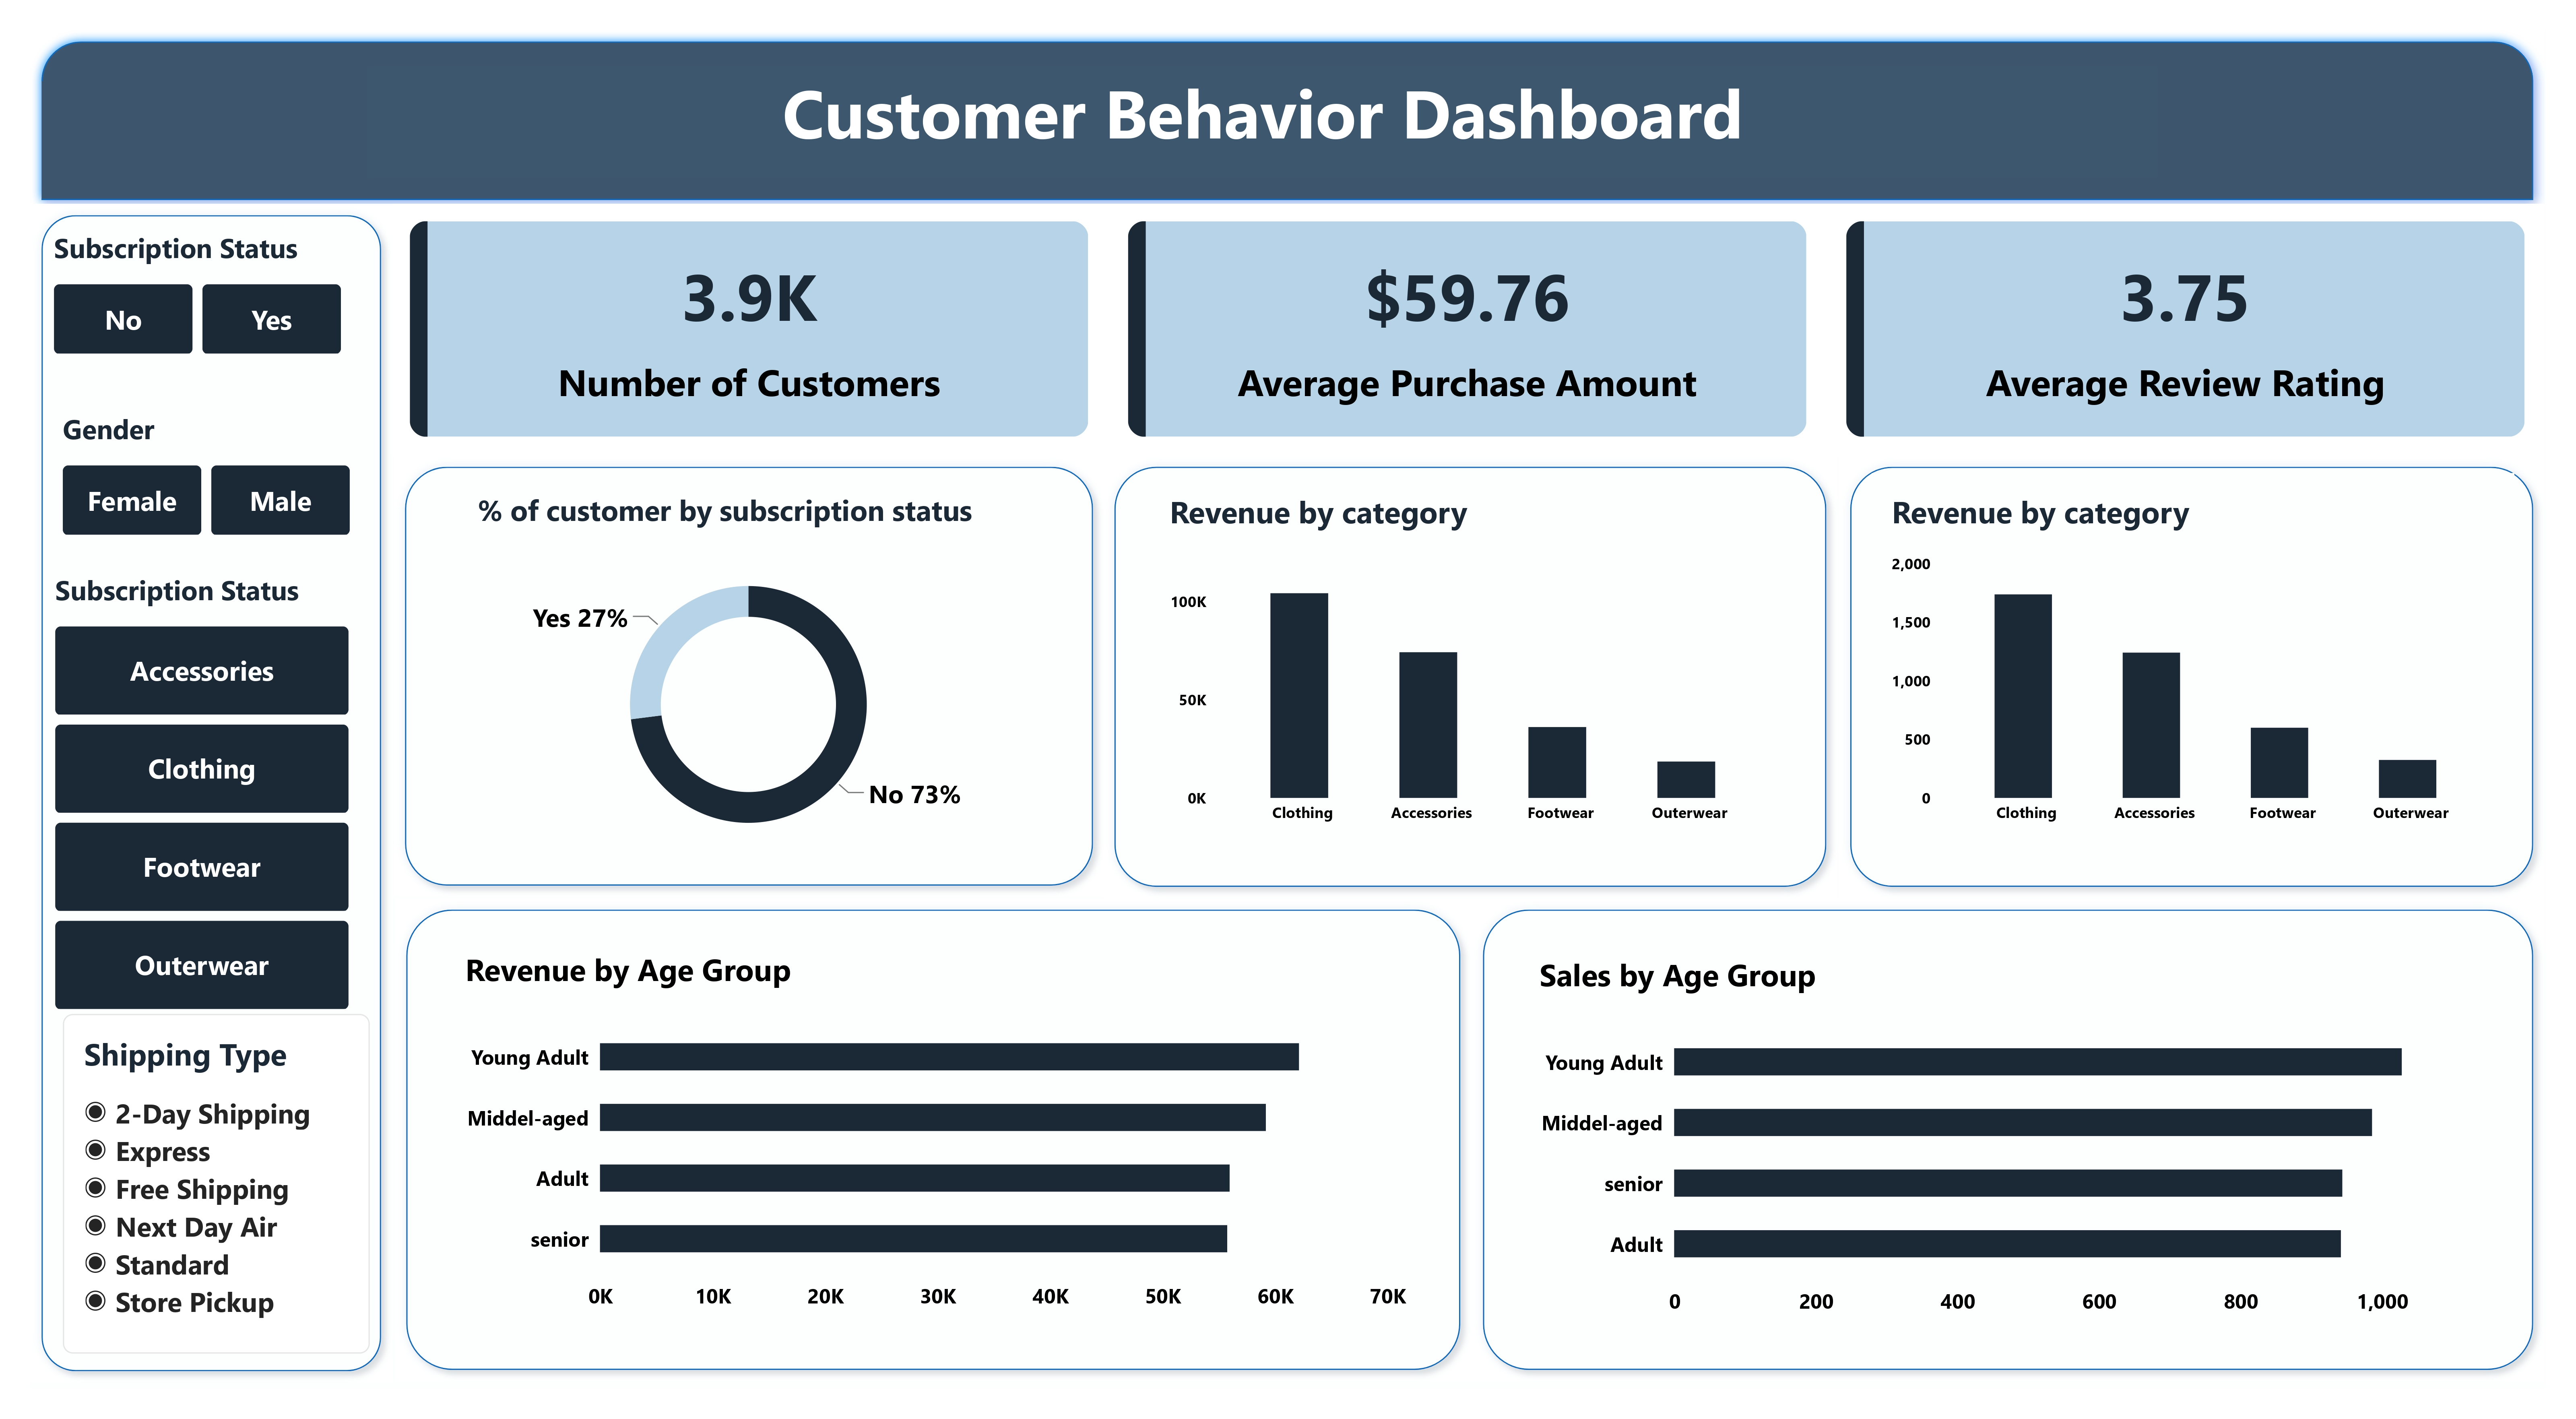

The page's visual inventory and layout, read from the dashboard file:
{"tool":"powerbi","page":{"name":"Dashboard","canvas":[2000,1080],"ordinal":0},"visuals":[{"type":"shape","box":[0,0,1999.4,144],"z":0},{"type":"cardVisual","fields":{"Data":["public customer.Number of Customers","public customer.Average Purchase Amount","public customer.Average Review Rating"]},"box":[287.9,138,1711.5,199.9],"z":1000},{"type":"shape","box":[0,138,287.9,936.7],"z":2000},{"type":"textbox","box":[267.7,27.8,1424.2,90.2],"z":3000},{"type":"shape","box":[289.3,337.9,564.3,351.3],"z":4000},{"type":"shape","box":[852.8,337.9,583.8,351.9],"z":5000},{"type":"shape","title":"Revenue by Category","box":[1437.6,337.9,561.8,351.9],"z":6000},{"type":"donutChart","title":"% of customer by subscription status","fields":{"Y":["CountNonNull(public customer.customer_id)"],"Category":["public customer.subscription_status"]},"box":[340.5,351.9,462,323.9],"z":7000},{"type":"clusteredColumnChart","title":"Revenue by category","fields":{"Category":["public customer.category"],"Y":["Sum(public customer.purchase_amount)"]},"box":[889.7,351.9,511.9,299.9],"z":8000},{"type":"clusteredColumnChart","title":"Revenue by category","fields":{"Category":["public customer.category"],"Y":["CountNonNull(public customer.customer_id)"]},"box":[1463.6,351.9,511.9,299.9],"z":9000},{"type":"advancedSlicerVisual","title":"Subscription Status","fields":{"Values":["public customer.subscription_status"]},"box":[19.5,158,233.9,100],"z":10000},{"type":"advancedSlicerVisual","title":"Gender","fields":{"Values":["public customer.gender"]},"box":[26,301.9,233.9,100],"z":11000},{"type":"advancedSlicerVisual","title":"Subscription Status","fields":{"Values":["public customer.category"]},"box":[20,429.9,233.9,351.9],"z":12000},{"type":"listSlicer","title":"Shipping Type","fields":{"Values":["public customer.shipping_type"]},"box":[26,781.8,243.9,269.9],"z":13000},{"type":"shape","box":[289.9,689.8,855.8,383.9],"z":14000},{"type":"shape","box":[1145.7,689.8,853.8,383.9],"z":15000},{"type":"clusteredBarChart","title":"Revenue by Age Group","fields":{"Category":["public customer.age_group"],"Y":["Sum(public customer.purchase_amount)"]},"box":[329.9,715.8,779.8,323],"z":16000},{"type":"clusteredBarChart","title":"Sales by Age Group","fields":{"Category":["public customer.age_group"],"Y":["CountNonNull(public customer.customer_id)"]},"box":[1183.7,719.8,779.8,323],"z":17000}]}

Visuals, with their boxes on the page's 2000x1080 design canvas (x1, y1, x2, y2). These are canvas units, not pixel positions in the 2576x1419 screenshot, which may show the page scaled, cropped or inside an application window:
shape: bbox=[0, 0, 1999, 144]
cardVisual - public customer.Number of Customers x public customer.Average Purchase Amount: bbox=[288, 138, 1999, 338]
shape: bbox=[0, 138, 288, 1075]
textbox: bbox=[268, 28, 1692, 118]
shape: bbox=[289, 338, 854, 689]
shape: bbox=[853, 338, 1437, 690]
"Revenue by Category" shape: bbox=[1438, 338, 1999, 690]
"% of customer by subscription status" donutChart: bbox=[340, 352, 802, 676]
"Revenue by category" clusteredColumnChart: bbox=[890, 352, 1402, 652]
"Revenue by category" clusteredColumnChart: bbox=[1464, 352, 1976, 652]
"Subscription Status" advancedSlicerVisual: bbox=[20, 158, 253, 258]
"Gender" advancedSlicerVisual: bbox=[26, 302, 260, 402]
"Subscription Status" advancedSlicerVisual: bbox=[20, 430, 254, 782]
"Shipping Type" listSlicer: bbox=[26, 782, 270, 1052]
shape: bbox=[290, 690, 1146, 1074]
shape: bbox=[1146, 690, 2000, 1074]
"Revenue by Age Group" clusteredBarChart: bbox=[330, 716, 1110, 1039]
"Sales by Age Group" clusteredBarChart: bbox=[1184, 720, 1964, 1043]
